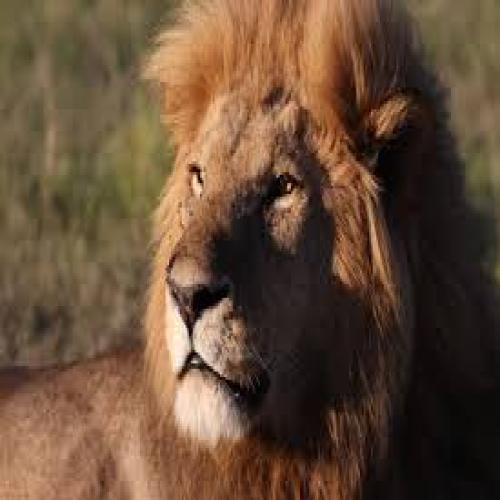lion-endangered: (138, 5, 484, 484)
